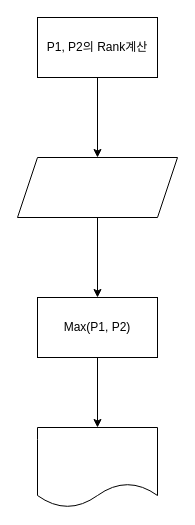
Some shapes in this 195 by 525 pixel diagram are drawn without their labels. Each missing label, with the box of its shape:
P1 = [0, "AKQJT"] P2 = [1, "JT987"]: (16, 156, 178, 218)
Winner = [P1]: (36, 426, 158, 508)
